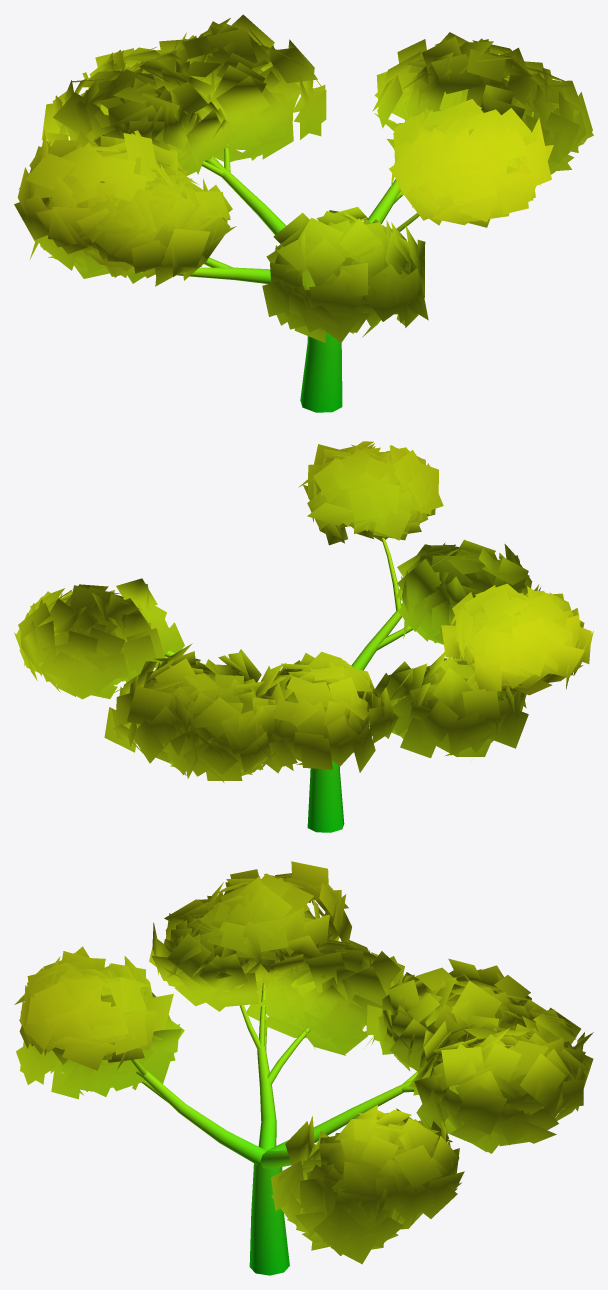
Rendered from sakura_a.glb.
3 renders of one model, top to bottom at view 1: azimuth 30°, elevation 25°; view 2: azimuth 150°, elevation 25°; view 3: azimuth 270°, elevation 25°, orthographic. The views are drawn at different scales.
Parts seen in each view (by area): view 1: sakura_a; view 2: sakura_a; view 3: sakura_a.
Part boxes in pixels (left/top/right/bottom): sakura_a: left=14, top=14, right=593, bottom=412; sakura_a: left=14, top=441, right=593, bottom=832; sakura_a: left=14, top=861, right=593, bottom=1275.
Bounding box in the file's own units: 10.27 × 5.65 × 9.22.
